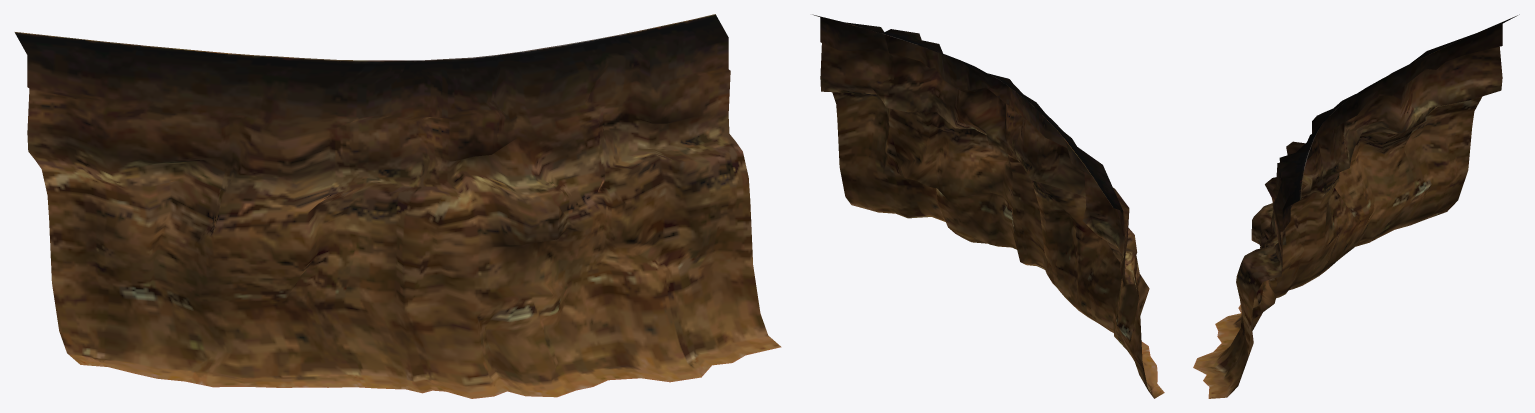
File: tunnelWallConvexB.fbx
3 views of the same model, side by side, from view 1: azimuth 30°, elevation 25°; view 2: azimuth 150°, elevation 25°; view 3: azimuth 270°, elevation 25° (orthographic). The views are drawn at different scales.
Parts seen in each view (by area): view 1: tunnelWallConvexB; view 2: tunnelWallConvexB; view 3: tunnelWallConvexB.
Boxes of the visible parts, box(x1,y1,x2,y2) form: tunnelWallConvexB: box(14, 14, 781, 398); tunnelWallConvexB: box(812, 14, 1164, 398); tunnelWallConvexB: box(1193, 14, 1519, 398).
Size of the model in its own units: 600 by 300 by 447.
